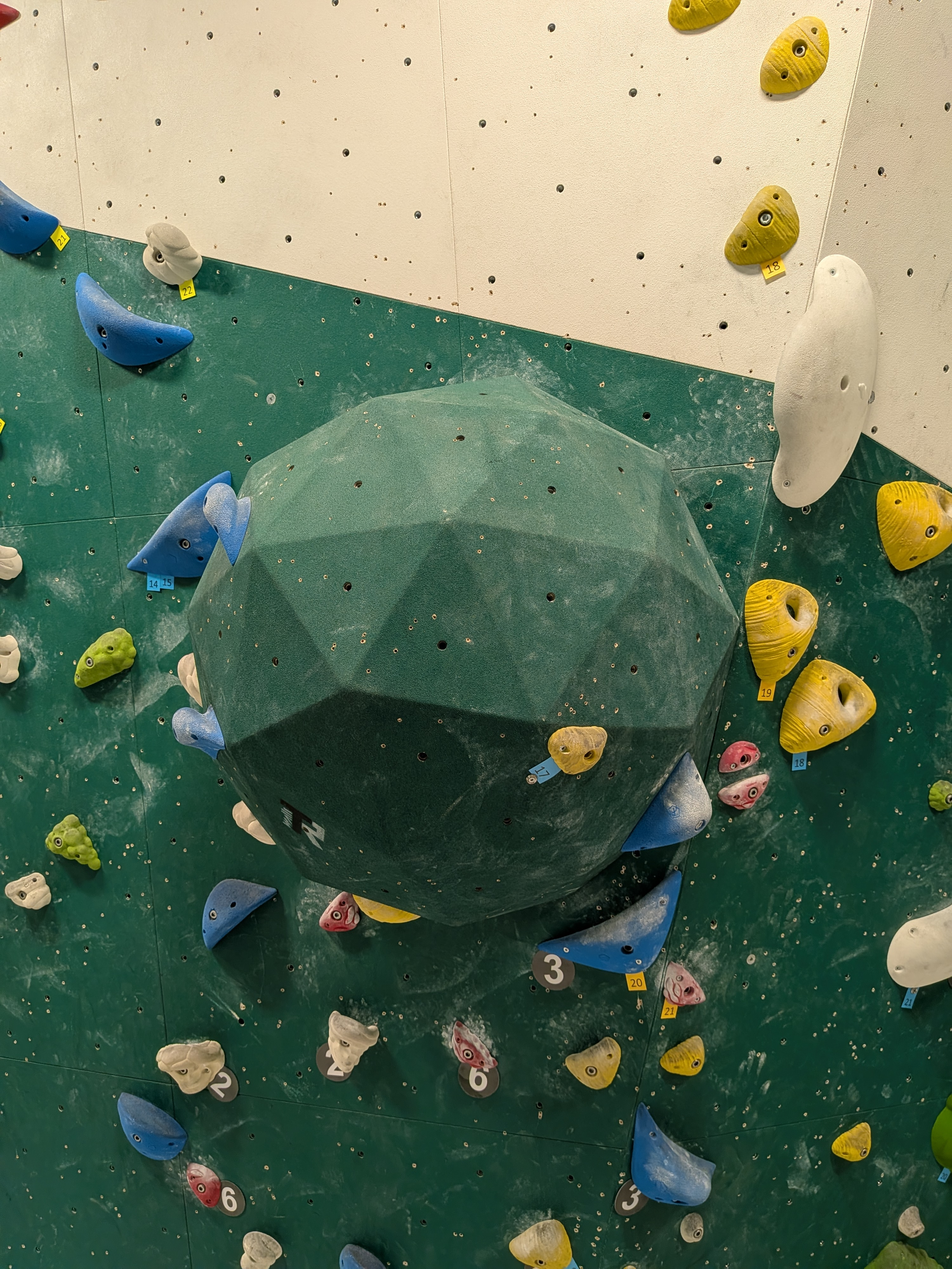hold: (772, 255, 878, 506), (539, 871, 681, 973), (76, 271, 195, 366), (127, 472, 230, 578), (779, 660, 877, 753), (622, 754, 712, 852), (632, 1104, 713, 1204), (744, 578, 819, 685), (877, 481, 952, 570), (725, 184, 799, 265), (760, 16, 829, 95), (887, 905, 952, 988), (201, 880, 275, 948), (115, 1094, 183, 1160), (0, 182, 58, 254), (203, 483, 250, 565), (142, 222, 200, 286), (156, 1040, 224, 1094), (74, 629, 136, 687), (328, 1011, 379, 1074), (510, 1219, 572, 1269), (46, 815, 101, 870), (548, 727, 609, 773), (173, 706, 225, 759), (567, 1038, 621, 1089), (452, 1020, 497, 1070), (670, 0, 741, 31), (866, 1241, 941, 1269), (354, 894, 418, 923), (718, 773, 769, 809), (664, 962, 705, 1006), (660, 1036, 705, 1076), (5, 871, 51, 910), (233, 802, 274, 844), (183, 1164, 221, 1209), (319, 892, 361, 931), (931, 1094, 952, 1169), (833, 1123, 871, 1161), (240, 1233, 280, 1269), (177, 653, 203, 707), (718, 740, 760, 773), (340, 1246, 382, 1269), (0, 635, 20, 683), (0, 544, 23, 580), (899, 1207, 924, 1239), (680, 1212, 704, 1243), (929, 780, 952, 811), (0, 5, 15, 24)
volume: (187, 376, 739, 927)
